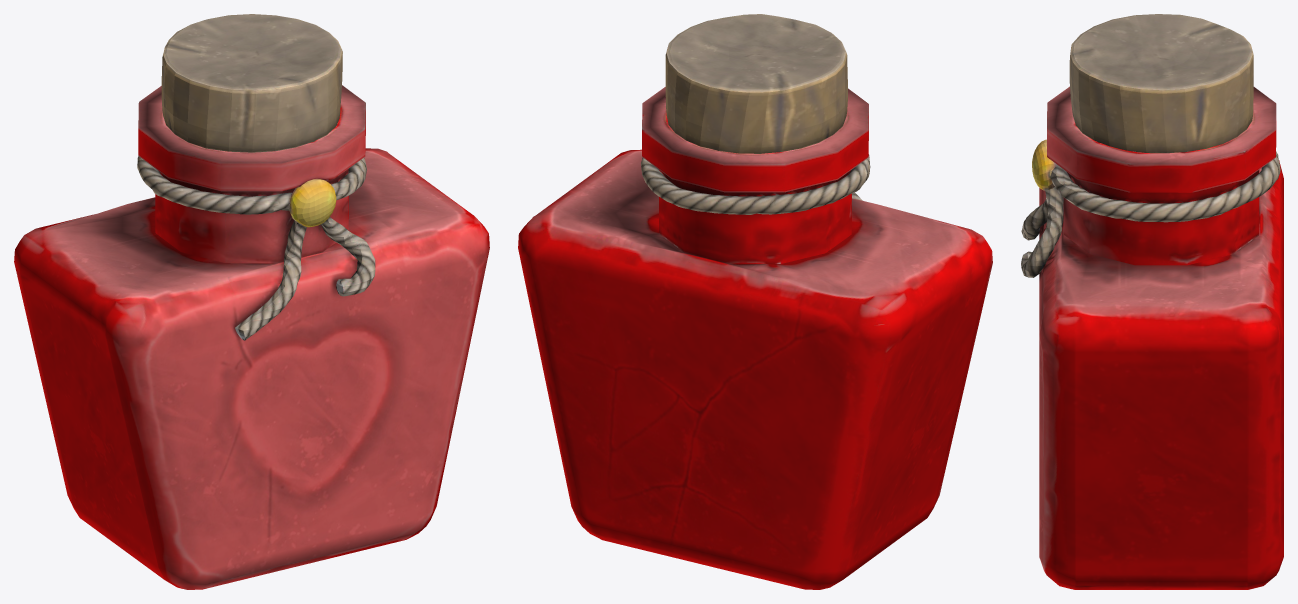
The model's file is health.glb.
The picture shows the model from 3 angles, left to right: view 1: azimuth 30°, elevation 25°; view 2: azimuth 150°, elevation 25°; view 3: azimuth 270°, elevation 25°; orthographic projection.
Parts seen in each view (by area): view 1: g; view 2: g; view 3: g.
Boxes of the visible parts, x1,y1,x2,y2 form: g: (14, 14, 489, 589); g: (518, 14, 992, 589); g: (1021, 14, 1283, 589).
Size of the model in its own units: 3.06 by 3.7 by 1.82.
Materials: 1 (1 with a texture image).
